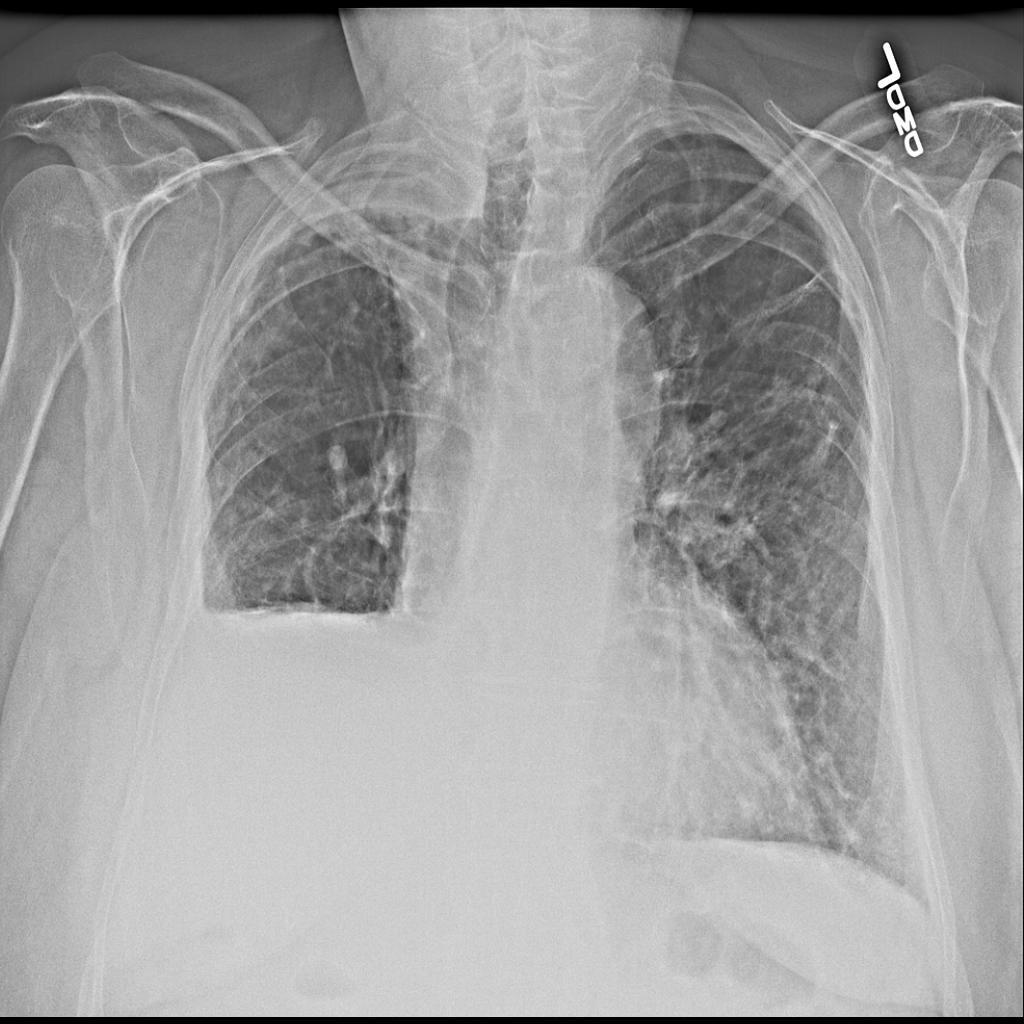Nodule: (675, 480, 759, 564)
